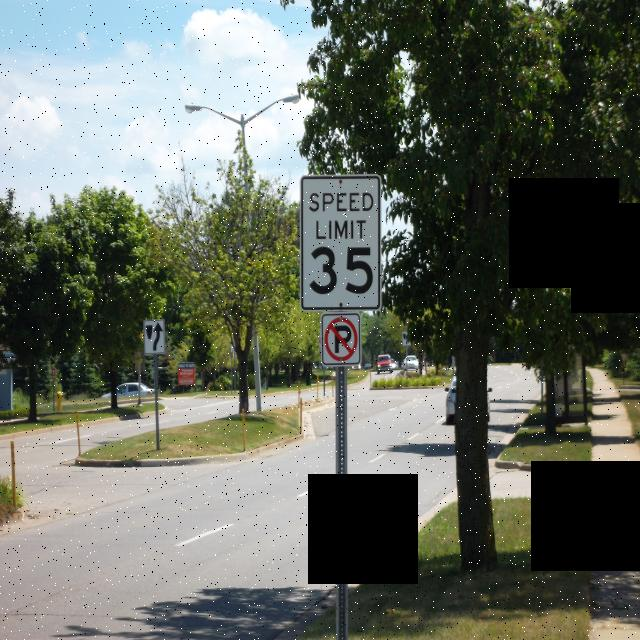regulatory: (302, 180, 379, 308), (317, 308, 362, 366), (139, 311, 170, 360)
